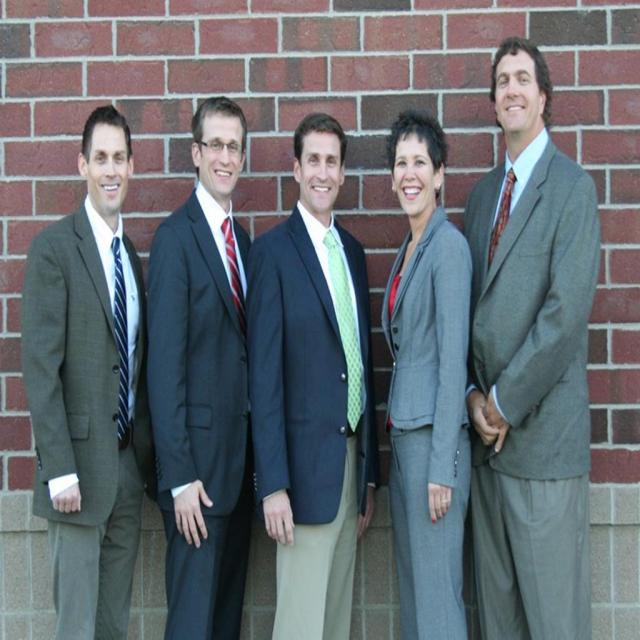Face: (81, 113, 134, 226), (199, 89, 250, 199), (391, 131, 444, 225), (295, 131, 342, 217), (500, 56, 542, 135)
